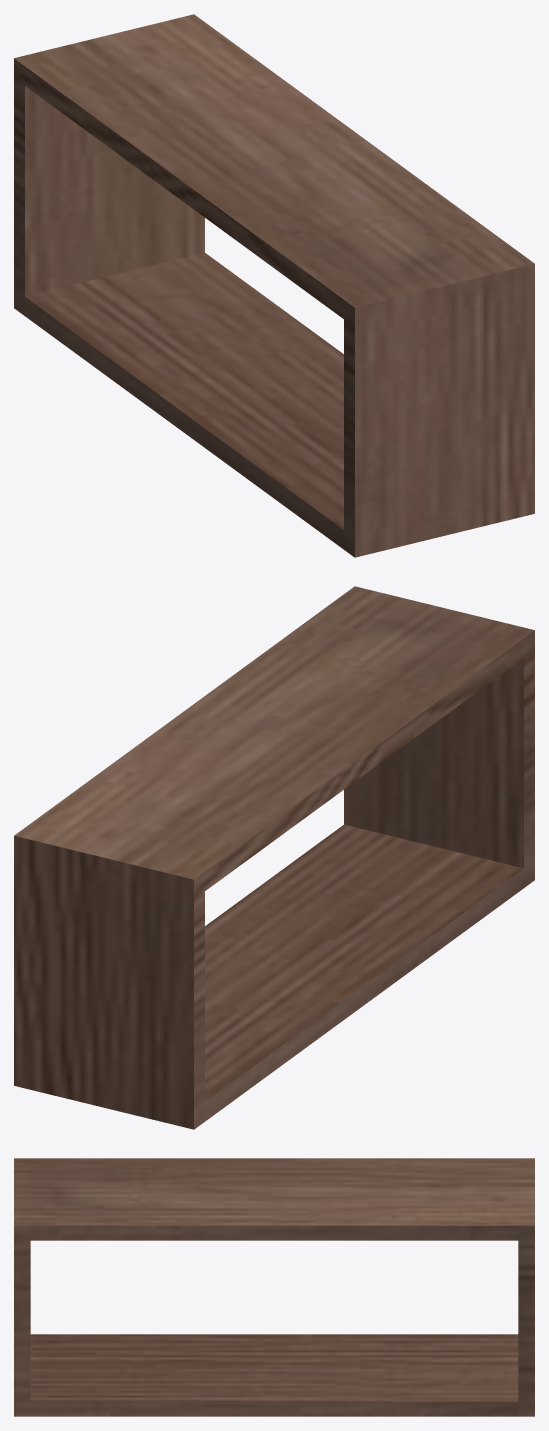
Rendered from tvshelf.glb.
The picture shows the model from 3 angles, top to bottom: view 1: azimuth 30°, elevation 25°; view 2: azimuth 150°, elevation 25°; view 3: azimuth 270°, elevation 25°; orthographic projection. The views are drawn at different scales.
Parts seen in each view (by area): view 1: Shelf; view 2: Shelf; view 3: Shelf.
Boxes of the visible parts, box(x1,y1,x2,y2) form: Shelf: box(14, 14, 534, 557); Shelf: box(14, 586, 534, 1129); Shelf: box(14, 1158, 534, 1416).
Bounding box in the file's own units: 0.754 × 1 × 2.47.
1 material, 1 textured.
